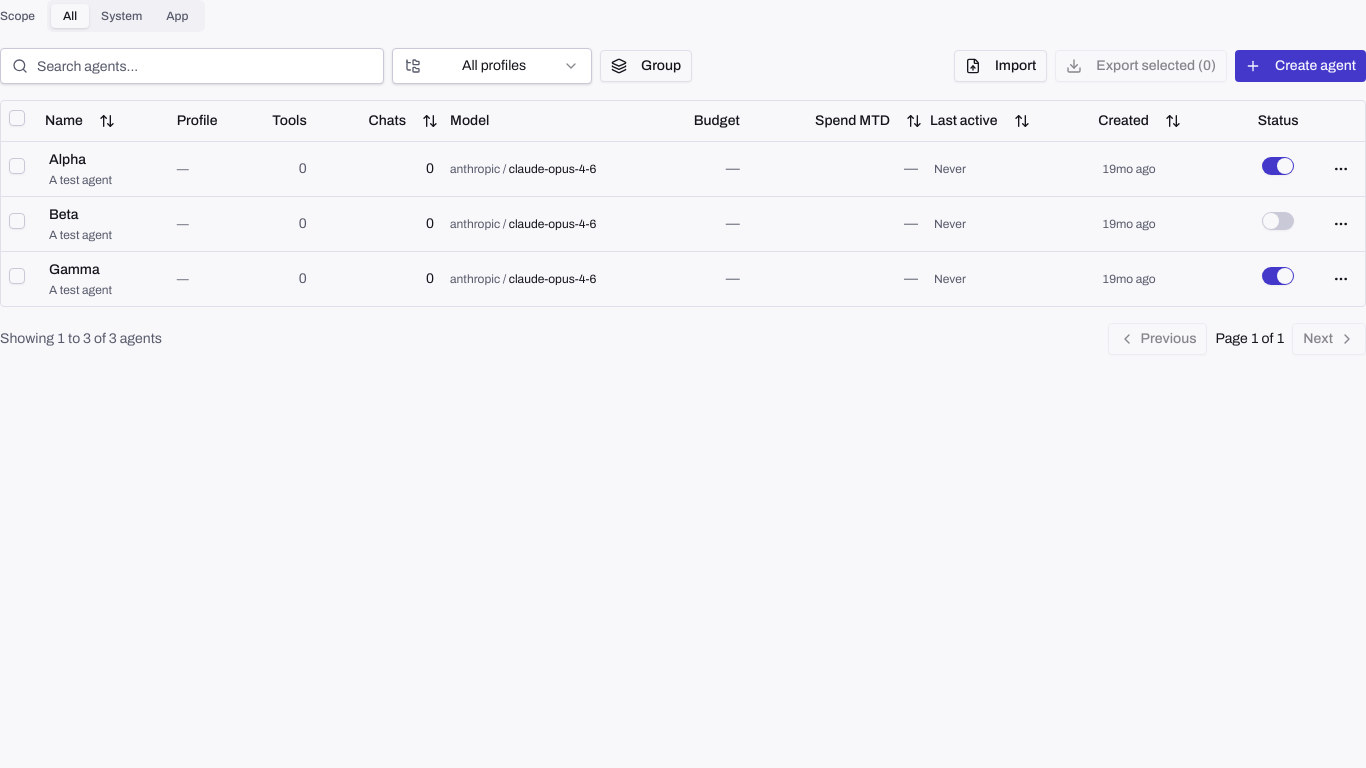
Test: AgentsTable › delete confirm flow › clicking Delete opens confirmation dialog
What coordinates should you click on to do the following:
click the button named "row actions" in the row of "Alpha"
I would click on:
 (1341, 168)
Its box is [1325, 152, 1357, 184].
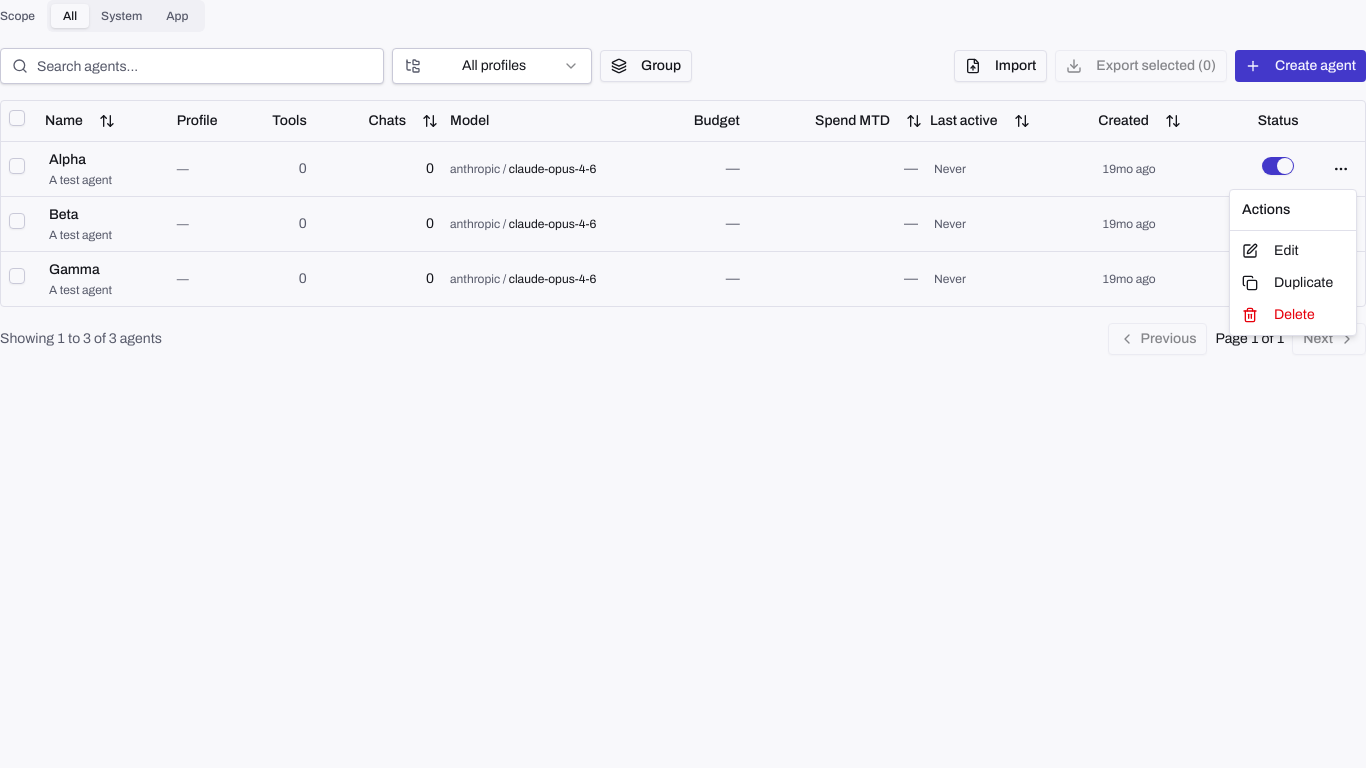
What coordinates should you click on to do the following:
click the menu item "Delete"
I would click on:
 (1278, 315)
Its box is [1242, 307, 1315, 323].
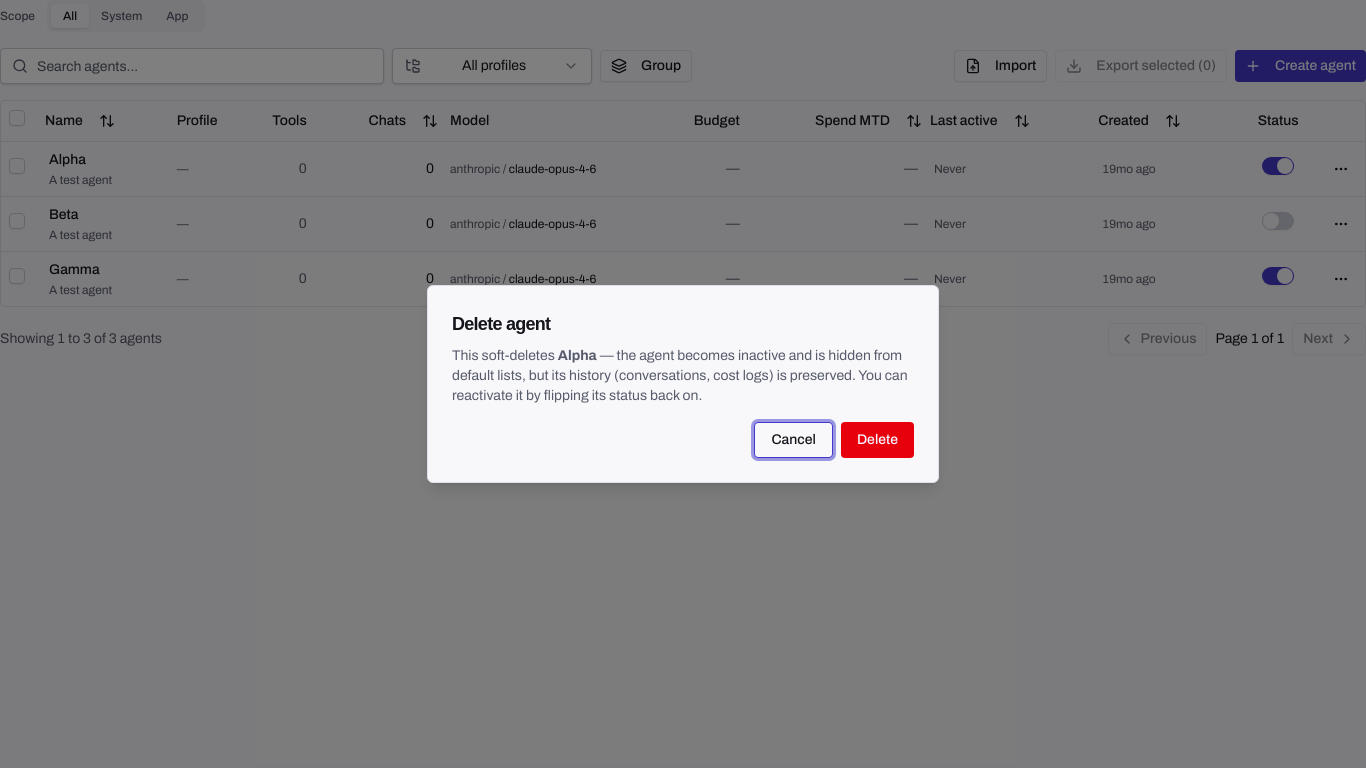
Result: the heading "Delete agent" is shown at [452, 314, 550, 334]
